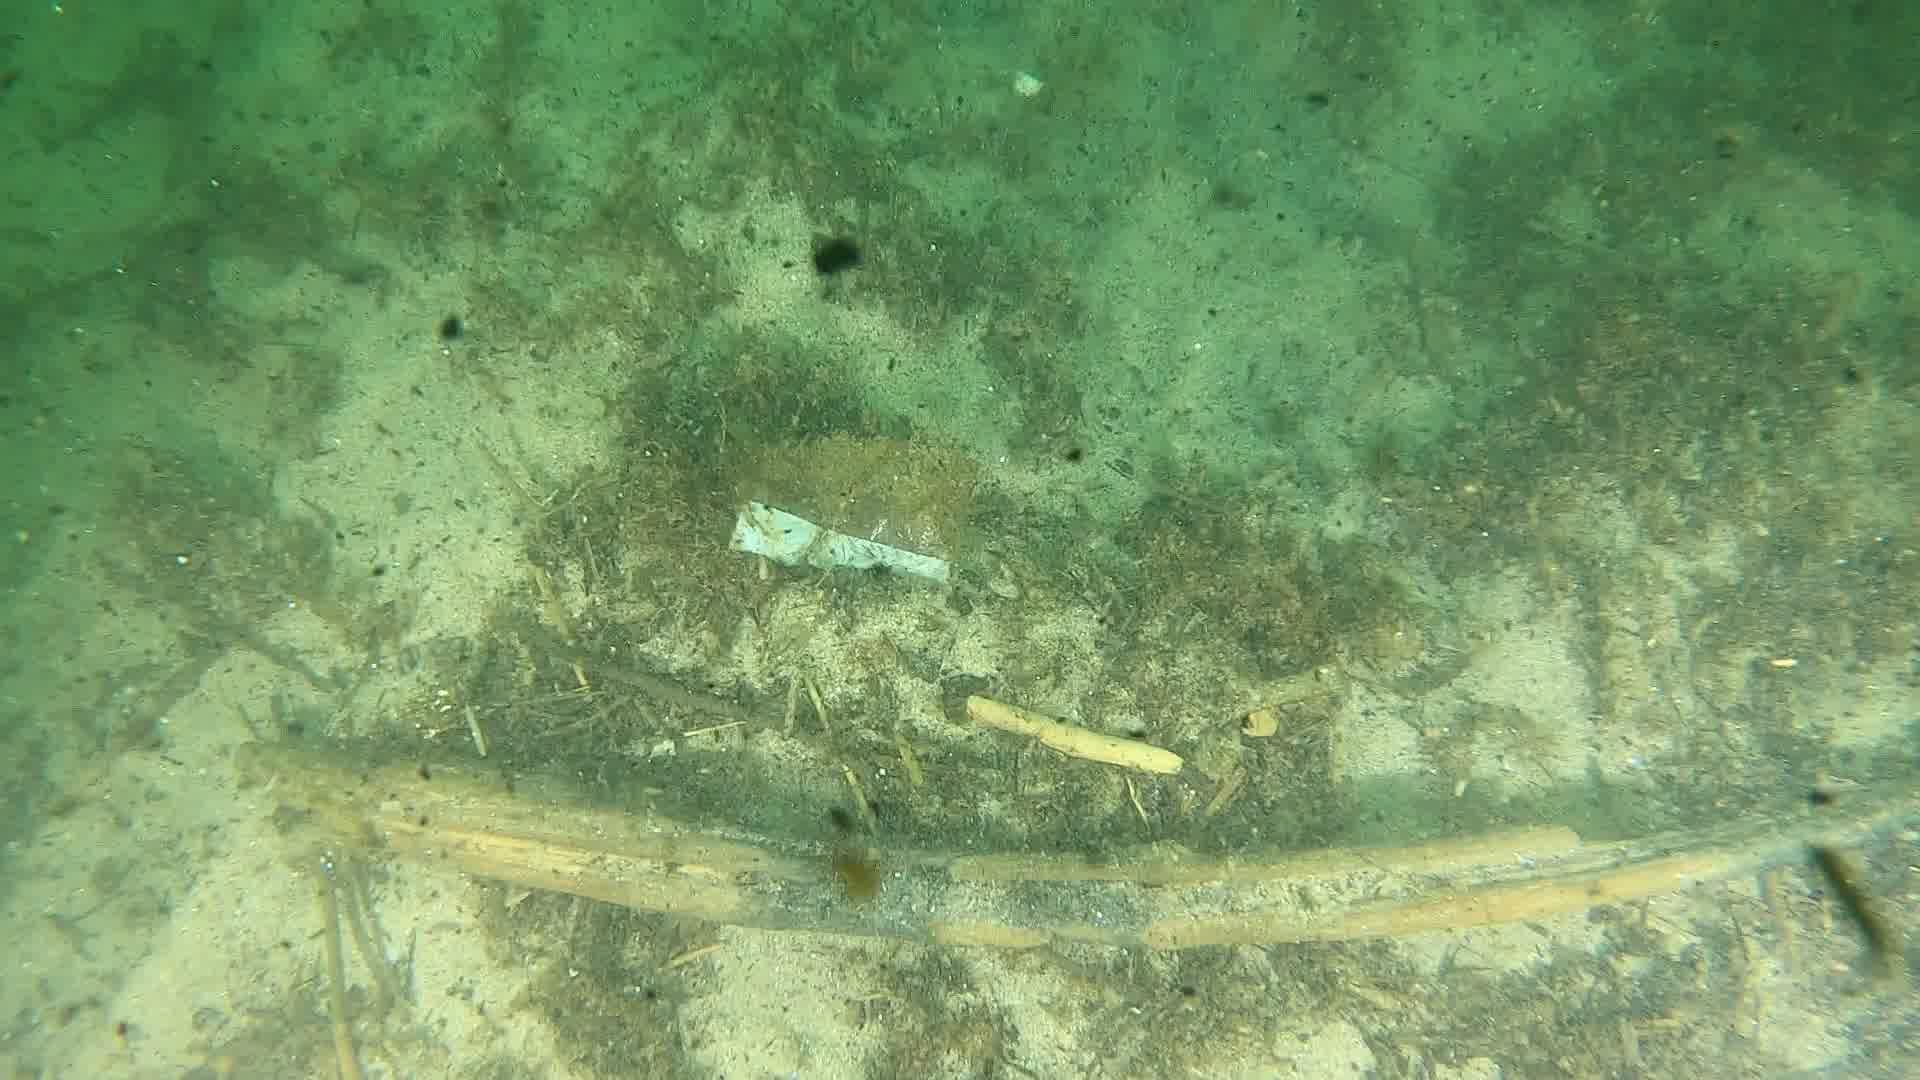wood: (232, 748, 1920, 953)
